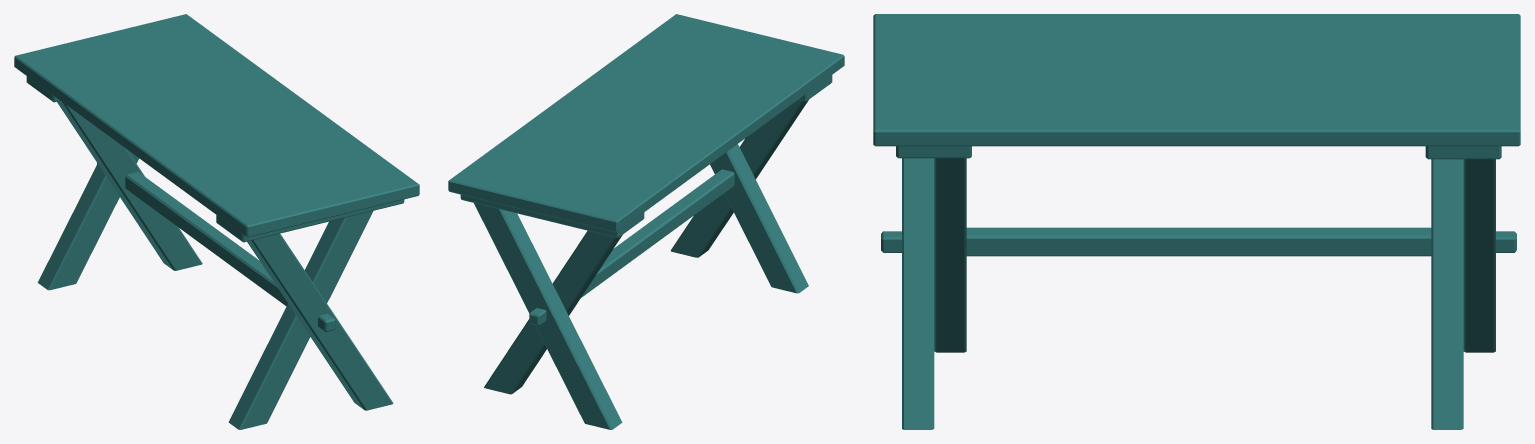
File: KitchenWorkspace.fbx
3 renders of one model, left to right at view 1: azimuth 30°, elevation 25°; view 2: azimuth 150°, elevation 25°; view 3: azimuth 270°, elevation 25°, orthographic. The views are drawn at different scales.
Visible parts, largest first — view 1: Box263; view 2: Box263; view 3: Box263.
Part boxes in pixels (x1,y1,x2,y2): Box263: [14, 14, 419, 429]; Box263: [448, 14, 844, 429]; Box263: [873, 14, 1520, 429].
Size of the model in its own units: 60 by 74 by 140.
